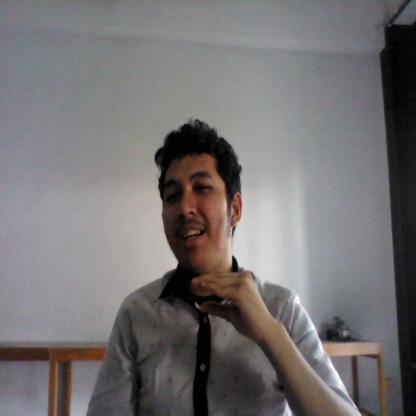Pagi: (184, 259, 278, 350)
